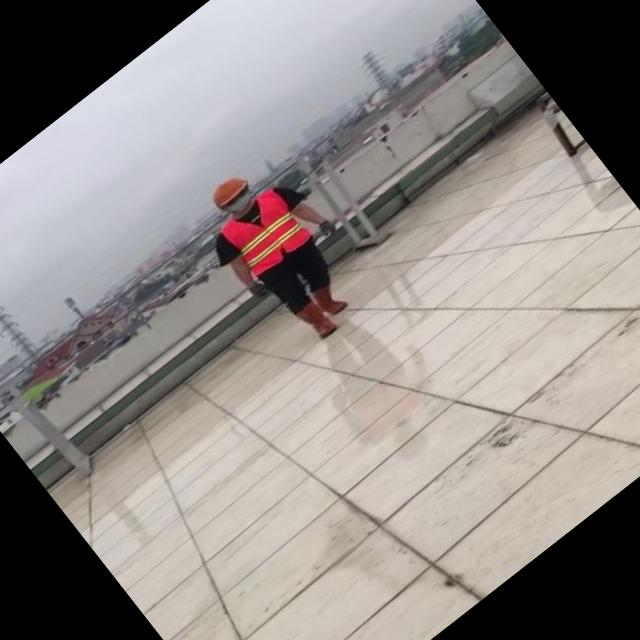hard_hat: (206, 170, 250, 210)
safety_vest: (217, 184, 316, 282)
vehicle: (181, 144, 388, 364)
work_boots: (290, 296, 338, 344), (306, 275, 350, 322)
